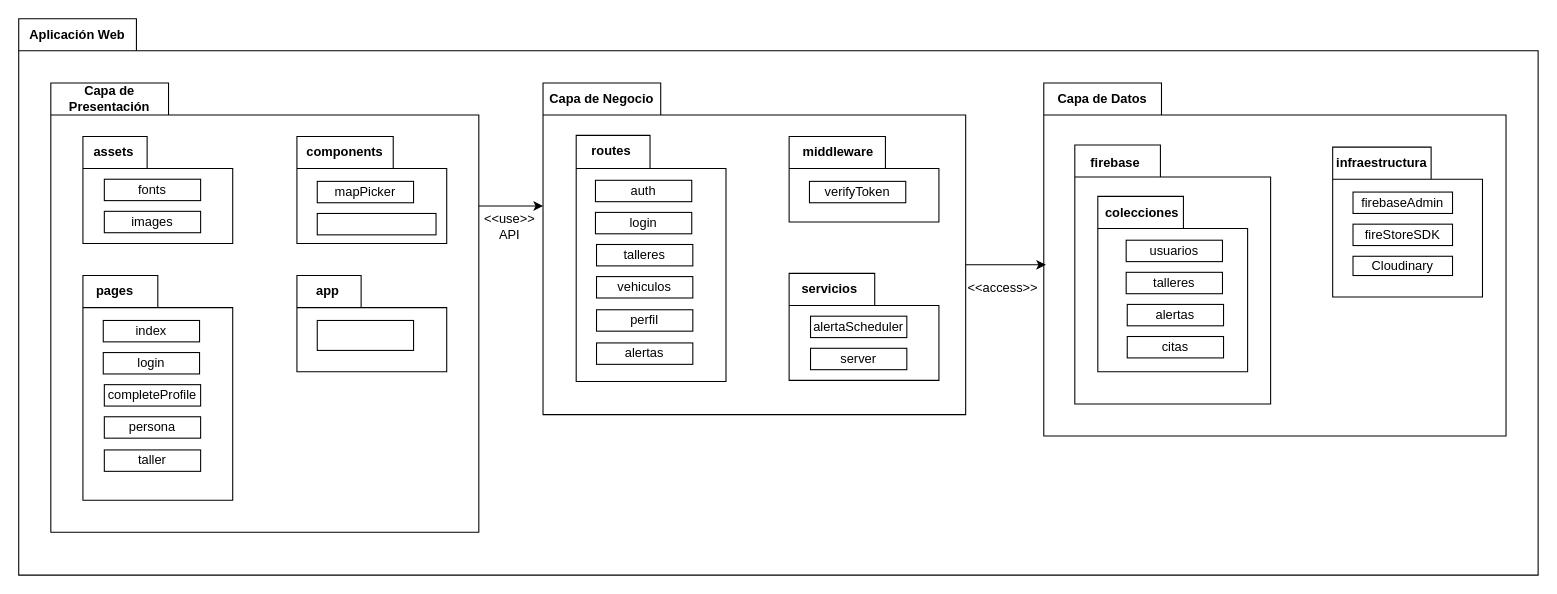
This 1557x594 diagram has some shape labels left out. Each missing label, with the centre of its shape:
"mainPages" goes at (x=365, y=334).
"uploadToCloudinary" goes at (x=376, y=223).
